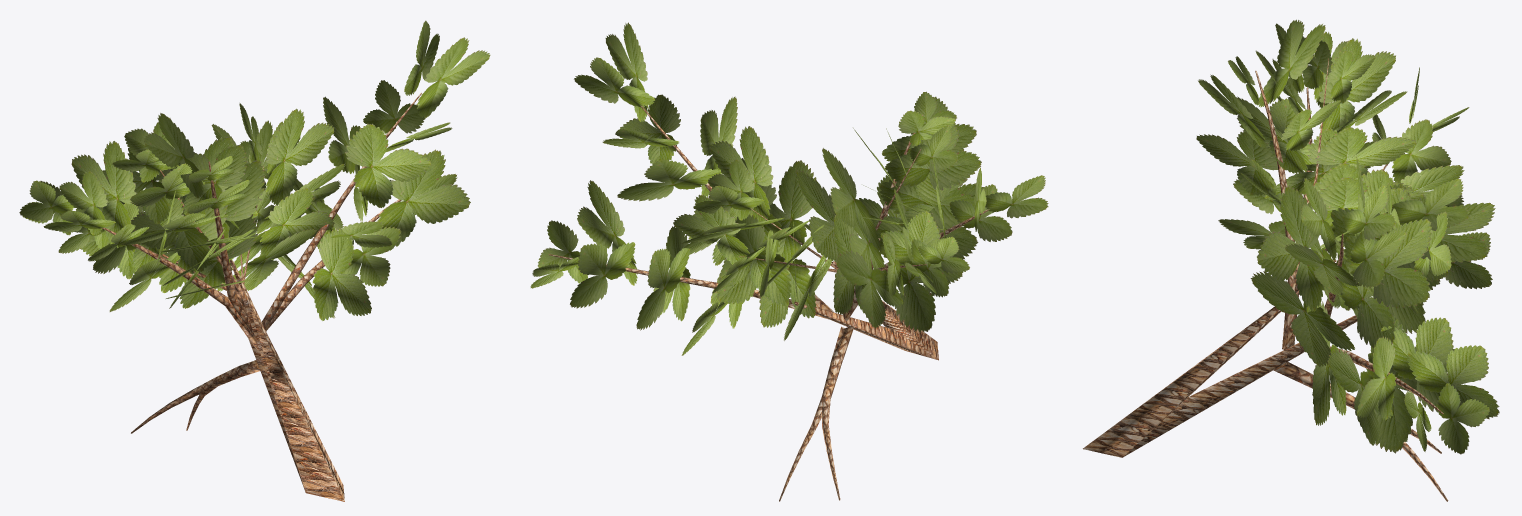
The model's file is boom2.fbx.
3 views of the same model, side by side, from view 1: azimuth 30°, elevation 25°; view 2: azimuth 150°, elevation 25°; view 3: azimuth 270°, elevation 25° (orthographic). The views are drawn at different scales.
Visible parts, largest first — view 1: Tree_1, Tree_0; view 2: Tree_1, Tree_0; view 3: Tree_1, Tree_0.
Boxes of the visible parts, x1=… form: Tree_1: x1=19, y1=20, x2=490, y2=320; Tree_0: x1=102, y1=93, x2=421, y2=501; Tree_1: x1=530, y1=22, x2=1048, y2=355; Tree_0: x1=548, y1=105, x2=988, y2=501; Tree_1: x1=1196, y1=19, x2=1499, y2=454; Tree_0: x1=1083, y1=58, x2=1448, y2=501.
Size of the model in its own units: 298 by 238 by 202.
Materials: 2 (2 with a texture image).
